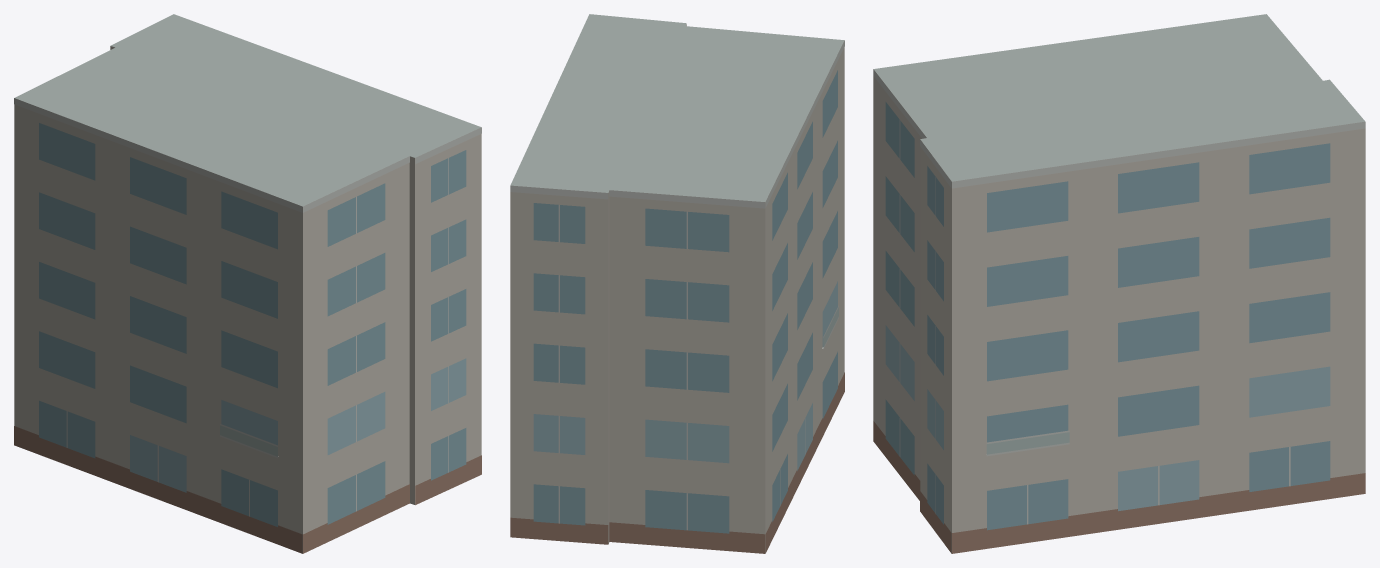
The model's file is survey-upis-32716996.glb.
3 views of the same model, side by side, from view 1: azimuth 30°, elevation 25°; view 2: azimuth 150°, elevation 25°; view 3: azimuth 270°, elevation 25° (orthographic). The views are drawn at different scales.
Visible parts, largest first — view 1: survey-upis-32716996.tmp; view 2: survey-upis-32716996.tmp; view 3: survey-upis-32716996.tmp.
Boxes of the visible parts, box(x1,y1,x2,y2) form: survey-upis-32716996.tmp: box(14, 14, 481, 553); survey-upis-32716996.tmp: box(510, 14, 844, 553); survey-upis-32716996.tmp: box(873, 14, 1365, 553).
Bounding box in the file's own units: 12.81 × 13.25 × 15.89.
